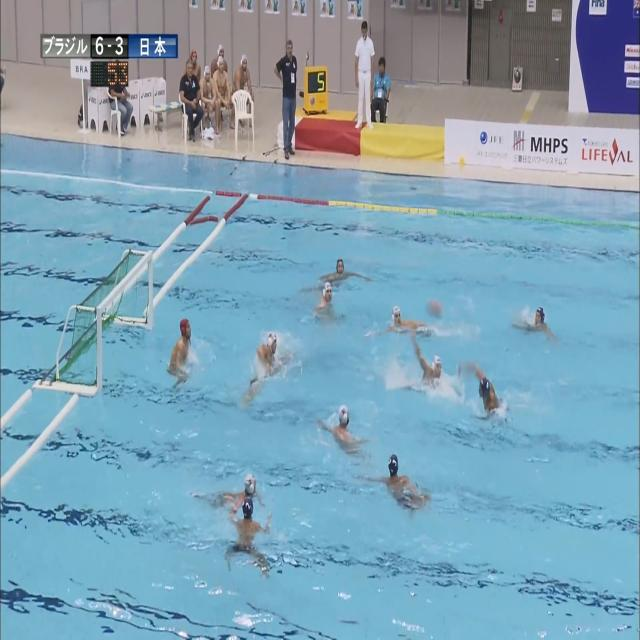ball: (428, 298, 441, 318)
